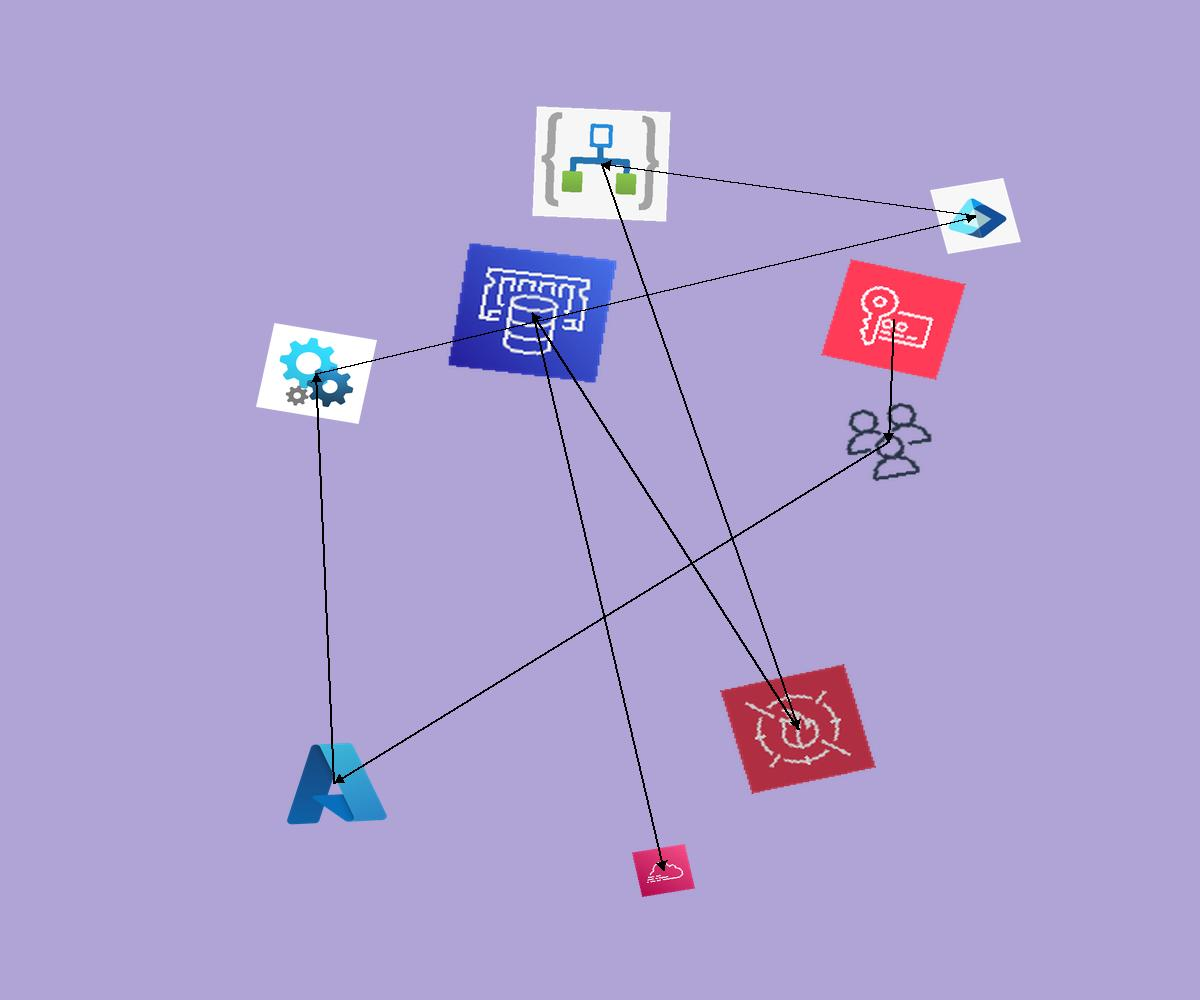AWS-CloudTrail: (632, 844, 695, 897)
AWS-ElastiCache: (447, 242, 618, 384)
AWS-Key-Management-Service: (821, 259, 966, 380)
AWS-Res_Users: (832, 395, 945, 489)
AWS-WAF: (720, 664, 876, 794)
Azure_api: (256, 323, 377, 424)
Azure_integration-204-Logic-Apps: (532, 106, 671, 222)
Azure_microsoft_entra: (930, 178, 1021, 254)
Azure_services: (277, 735, 392, 831)
